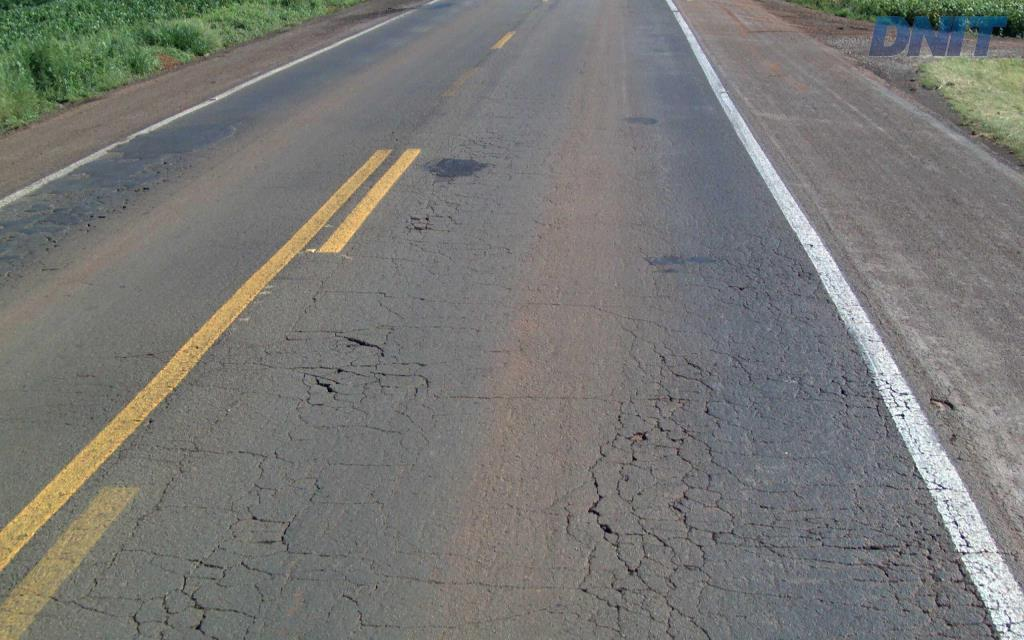crack: (798, 518, 971, 597), (587, 471, 661, 595), (629, 505, 730, 591), (836, 361, 907, 448), (719, 246, 787, 333), (656, 352, 723, 429), (714, 499, 797, 558), (180, 577, 256, 621), (757, 369, 824, 402), (618, 430, 648, 482), (301, 372, 340, 407)
